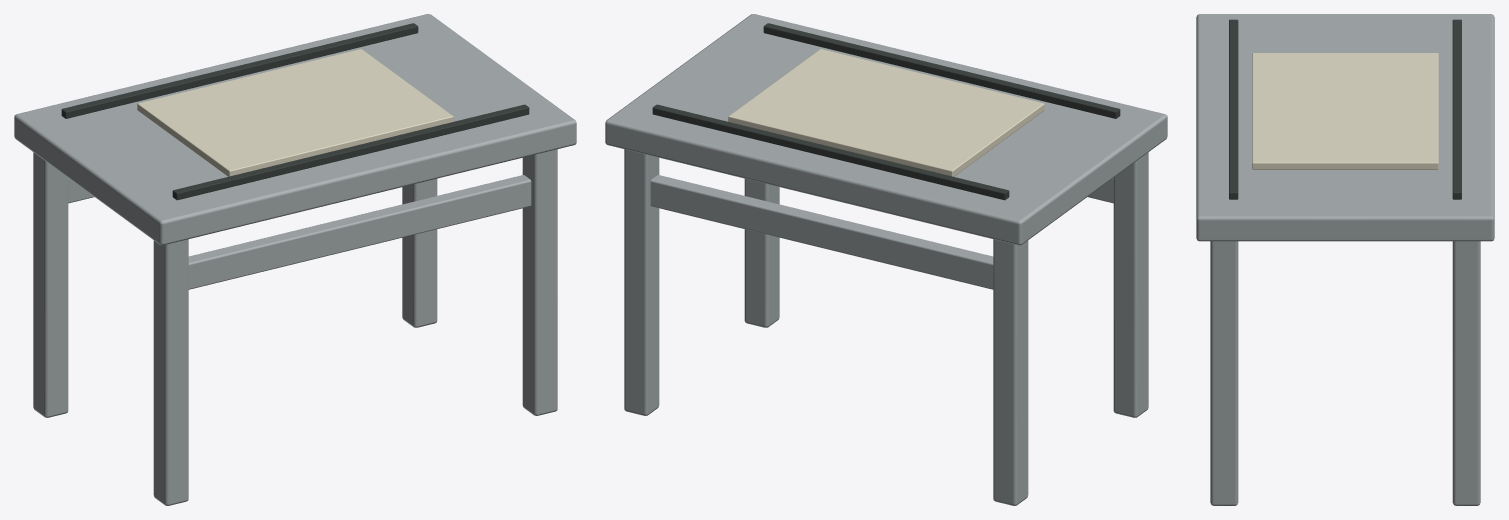
3 views of the same model, side by side, from view 1: azimuth 30°, elevation 25°; view 2: azimuth 150°, elevation 25°; view 3: azimuth 270°, elevation 25° (orthographic).
Visible parts, largest first — view 1: trade-inspection-table; view 2: trade-inspection-table; view 3: trade-inspection-table.
Part boxes in pixels (left/top/right/bottom): trade-inspection-table: left=14, top=14, right=576, bottom=505; trade-inspection-table: left=605, top=14, right=1167, bottom=505; trade-inspection-table: left=1196, top=14, right=1494, bottom=505.
Bounding box in the file's own units: 1.3 × 0.902 × 0.8001.
